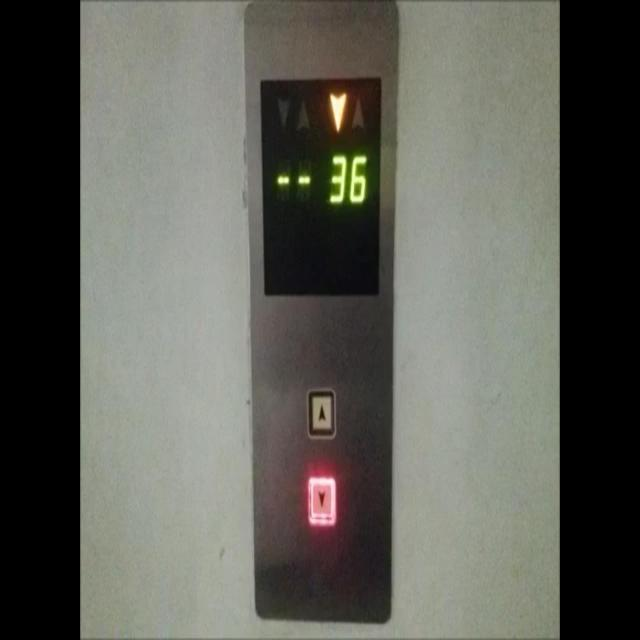down: (307, 475, 337, 526)
led: (260, 76, 382, 296)
up: (306, 387, 336, 439)
